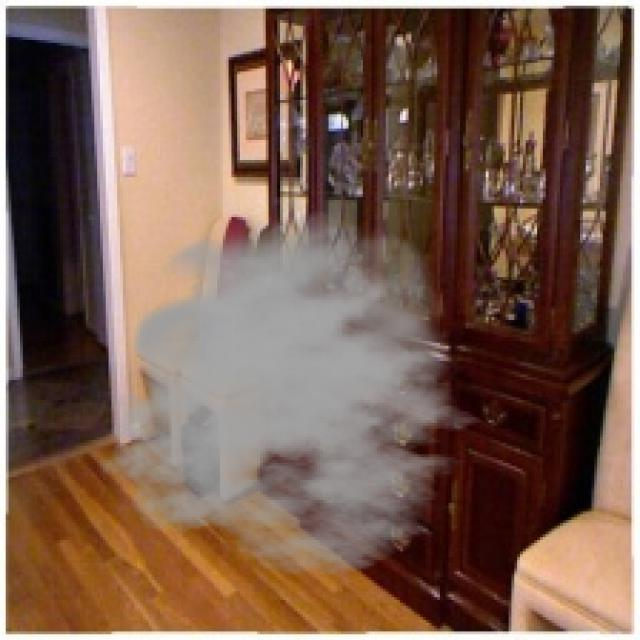smoke: (97, 212, 500, 577)
